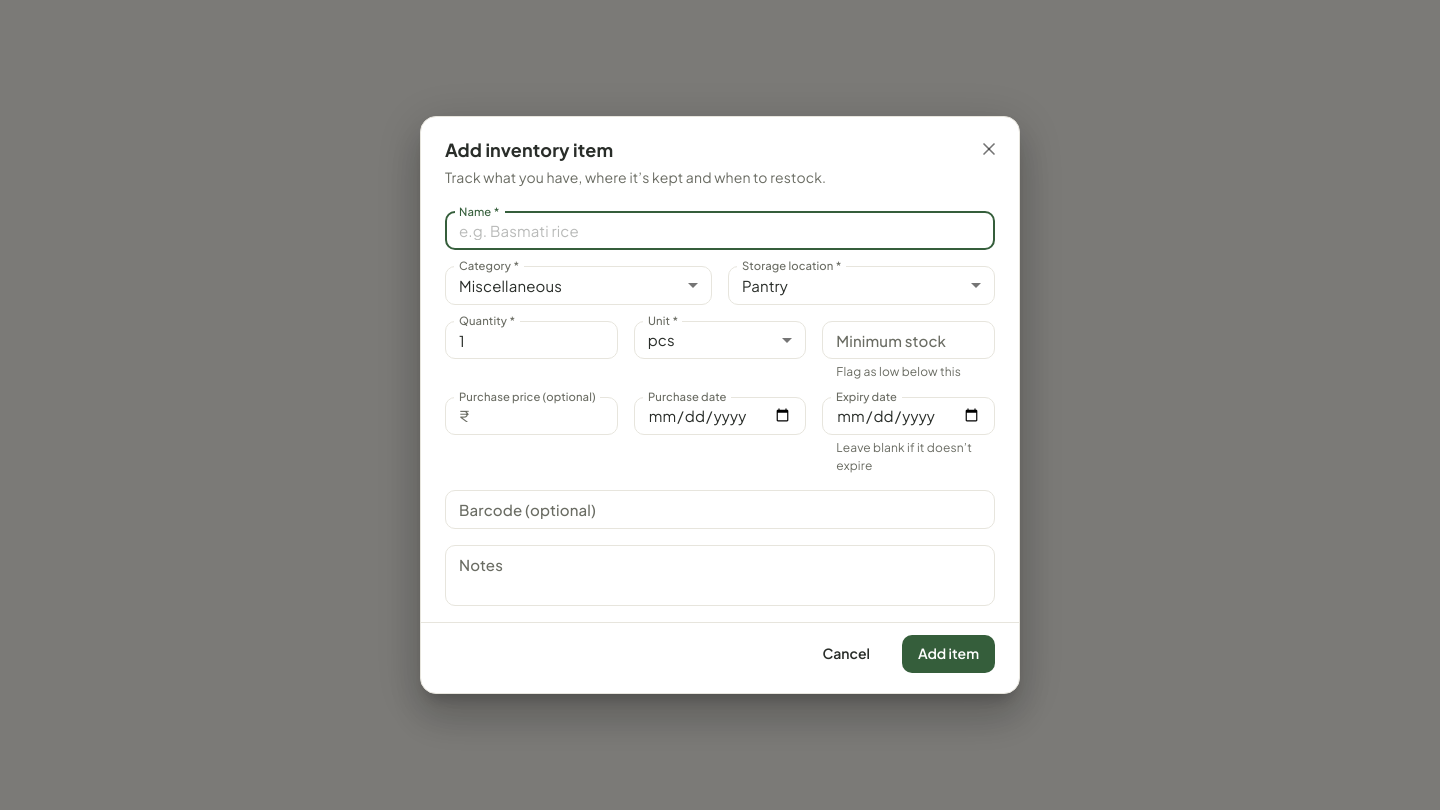
Test case: InventoryItemDialog › rejects an expiry date before the purchase date
The width and height of the screenshot is (1440, 810).
Type "2026-10-20" into the date field labelled "Purchase date" at point(720, 416), box top-left (634, 397), bottom-right (806, 435)
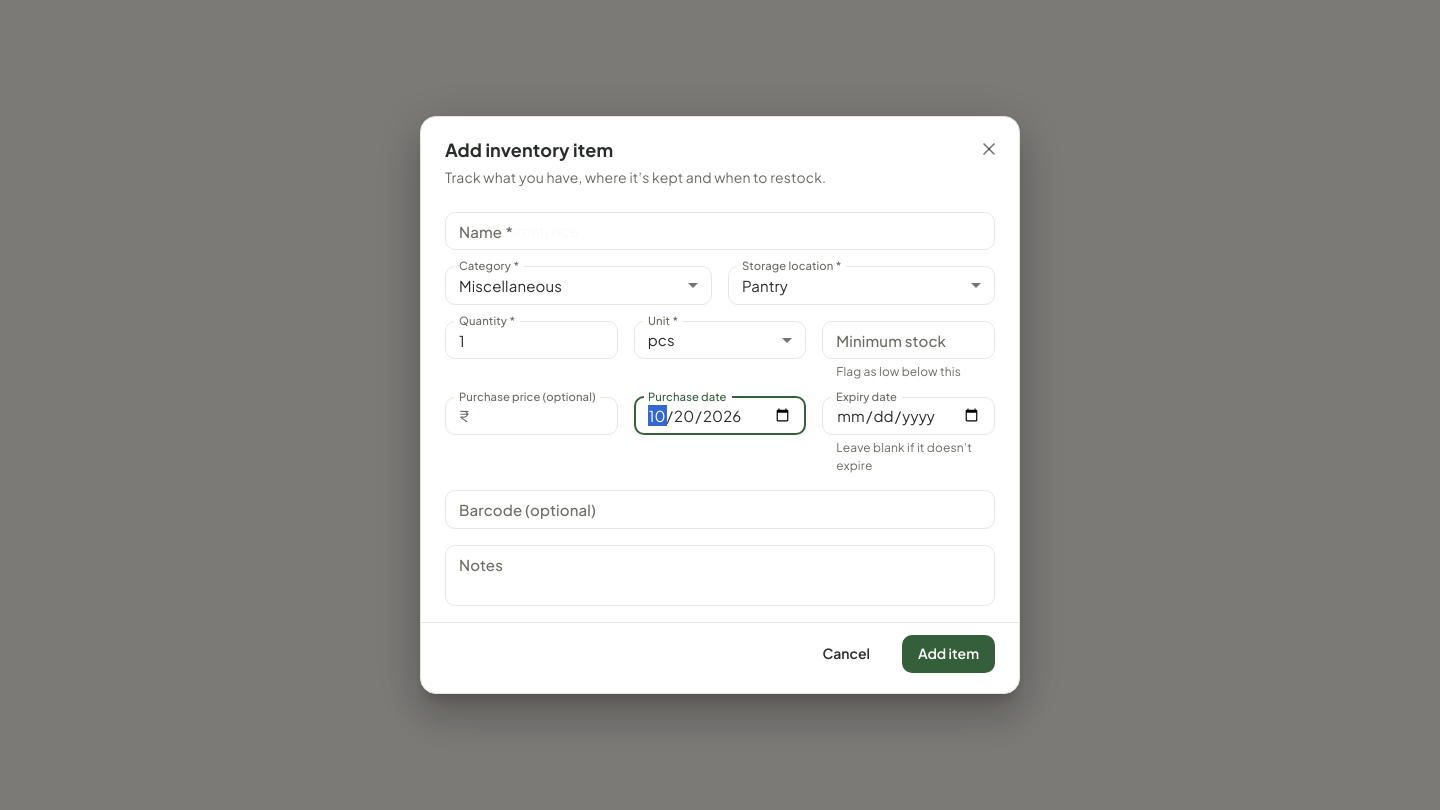
Type "2026-10-10" into the date field labelled "Expiry date" at point(909, 416), box top-left (822, 397), bottom-right (995, 435)
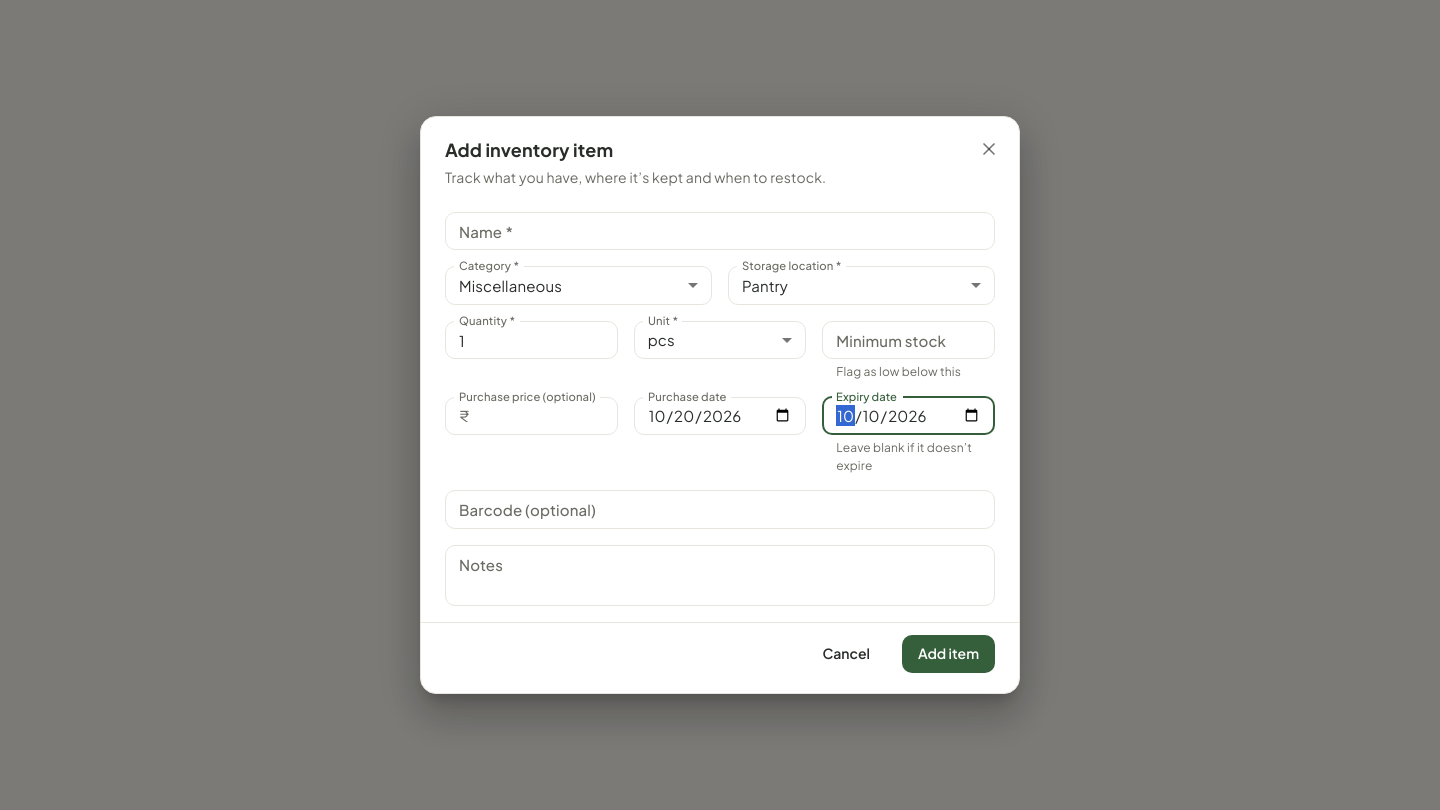
Click the button "Add item" at point(948, 654), box top-left (902, 635), bottom-right (995, 673)
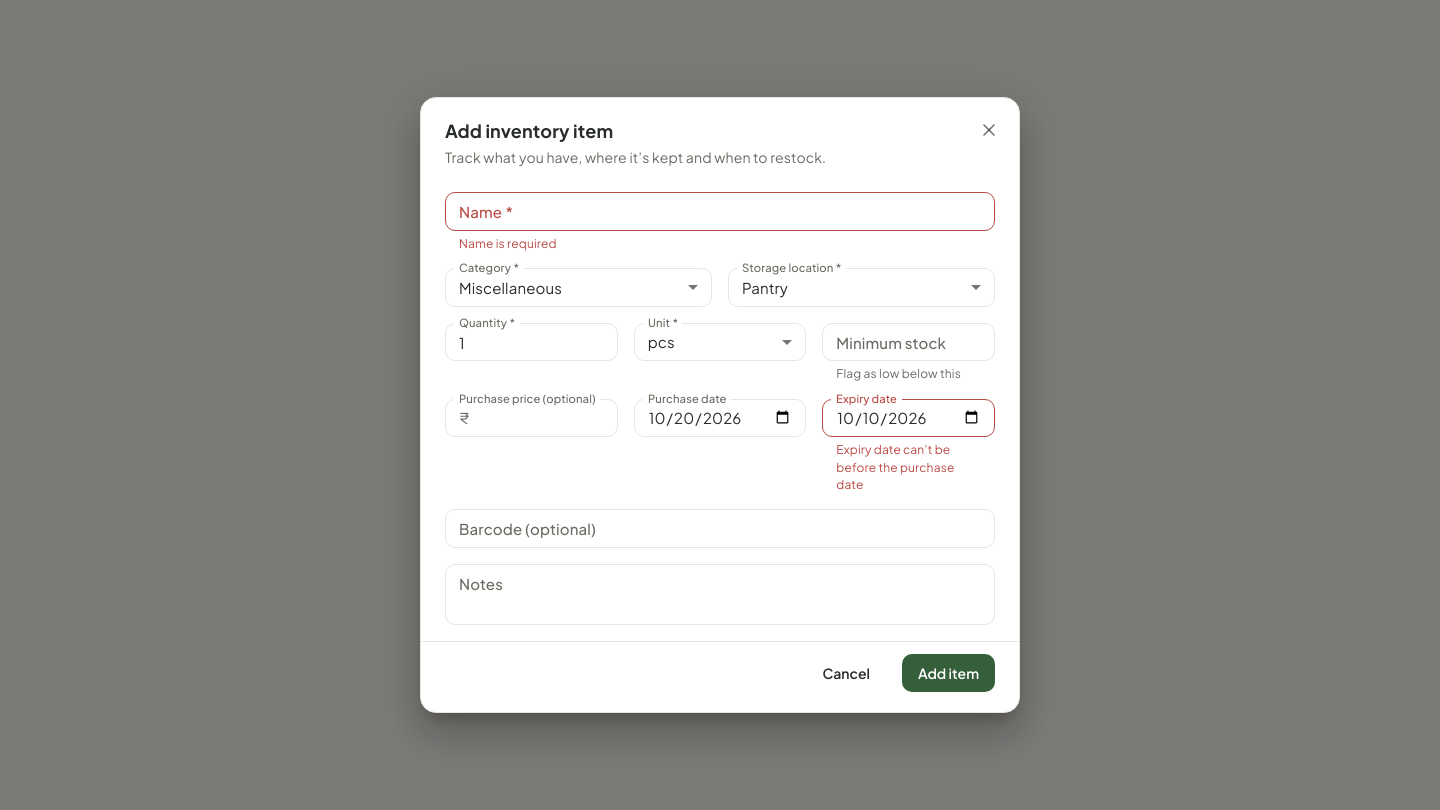
Expected: the text "Expiry date can’t be before the purchase date" is shown, top-left (836, 442), bottom-right (954, 492)
